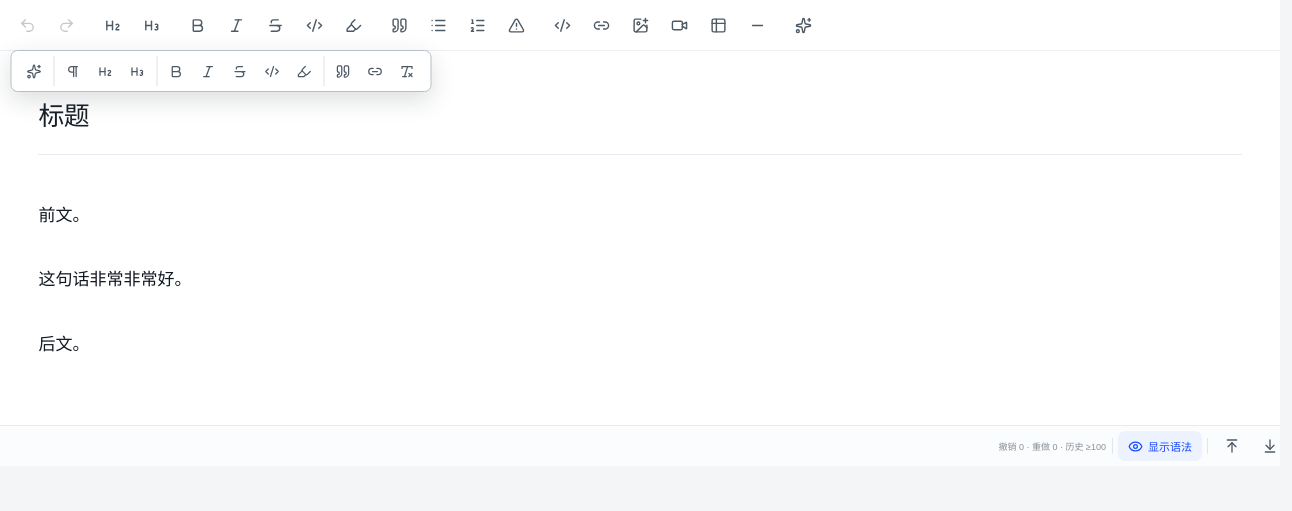
Test: AI editor selection › protects the document title
This screenshot has width=1292, height=511.
Click the 2nd button named "AI 优化选中文字" at {"x": 34, "y": 71}, box 19,56 -> 49,86
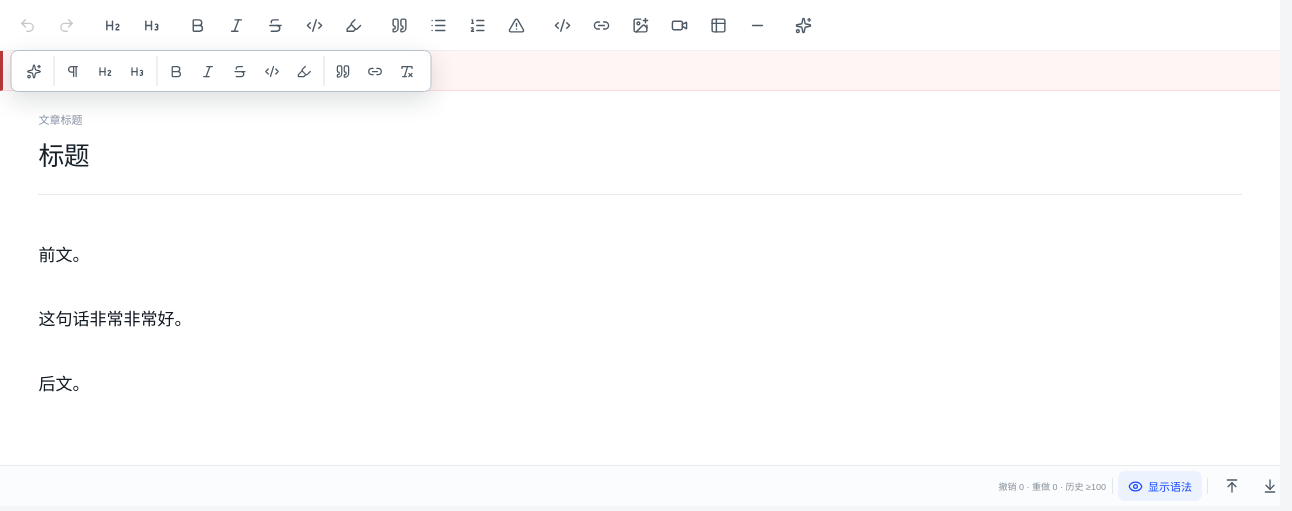
Now the message "请选择标题下方的正文文字进行 AI 润色。" is shown, box 0,51 -> 1280,91
